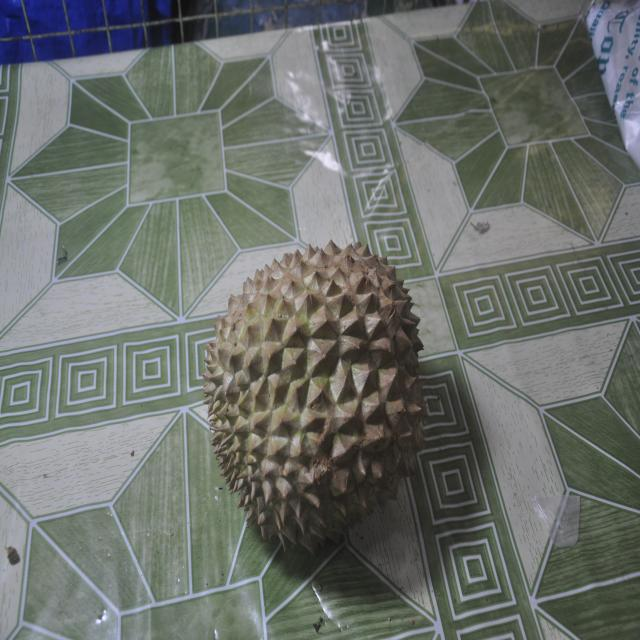mature: (204, 242, 426, 553)
